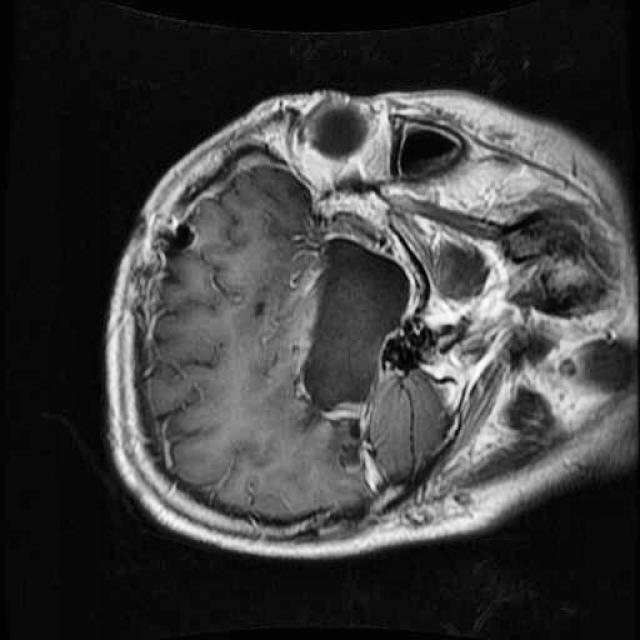Tumor: (286, 206, 422, 443)
